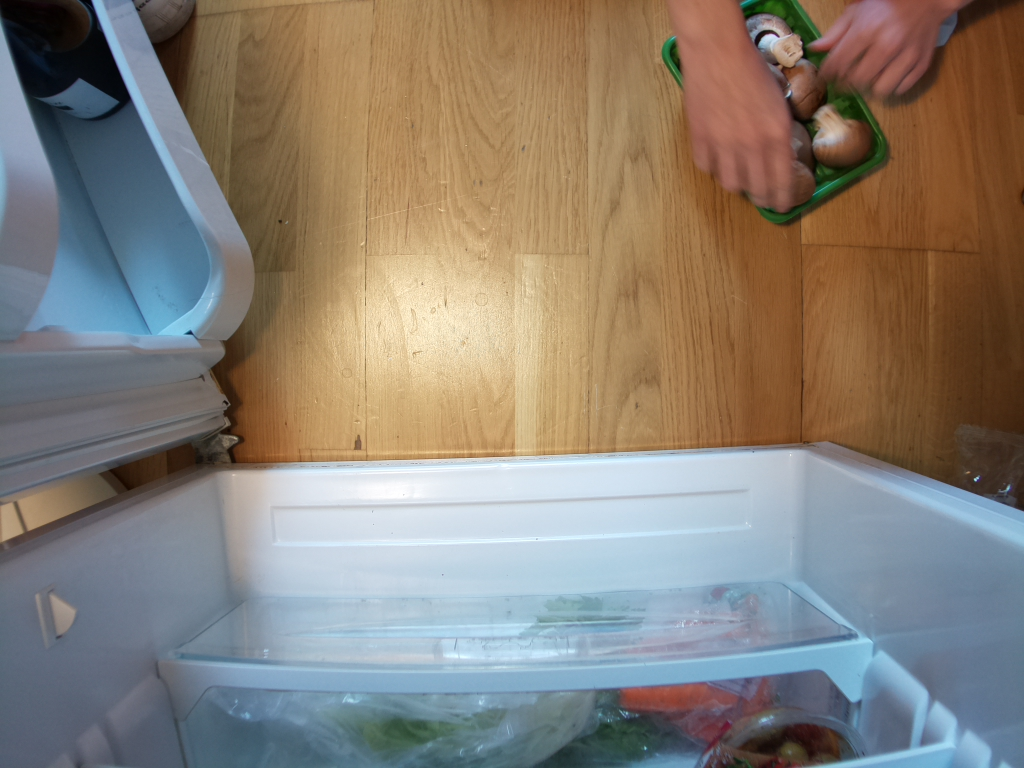mushrooms: (657, 1, 894, 225)
